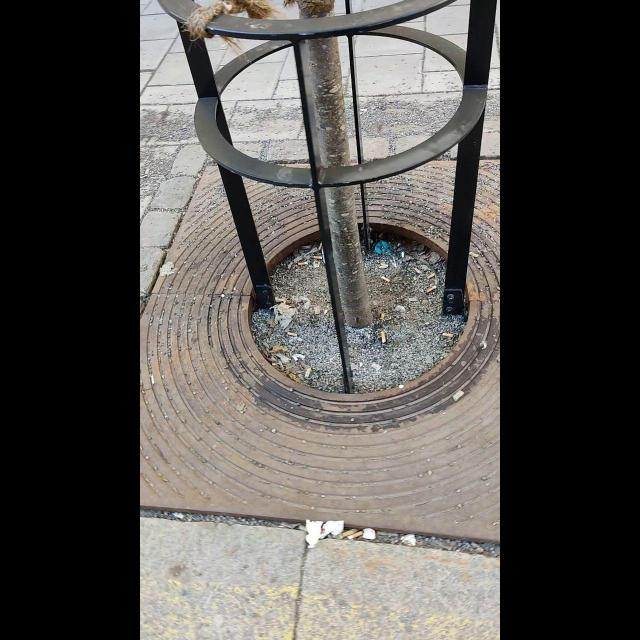cigarette: (346, 532, 363, 541), (453, 390, 464, 402), (304, 368, 312, 380), (380, 330, 387, 343), (371, 362, 382, 370), (342, 530, 354, 537), (442, 331, 453, 338), (426, 286, 436, 293), (313, 254, 324, 260), (288, 331, 298, 337), (468, 252, 479, 257), (298, 262, 308, 267), (314, 307, 320, 315), (382, 276, 389, 282), (381, 262, 389, 267), (428, 274, 434, 280), (382, 312, 386, 321), (318, 244, 322, 251)
